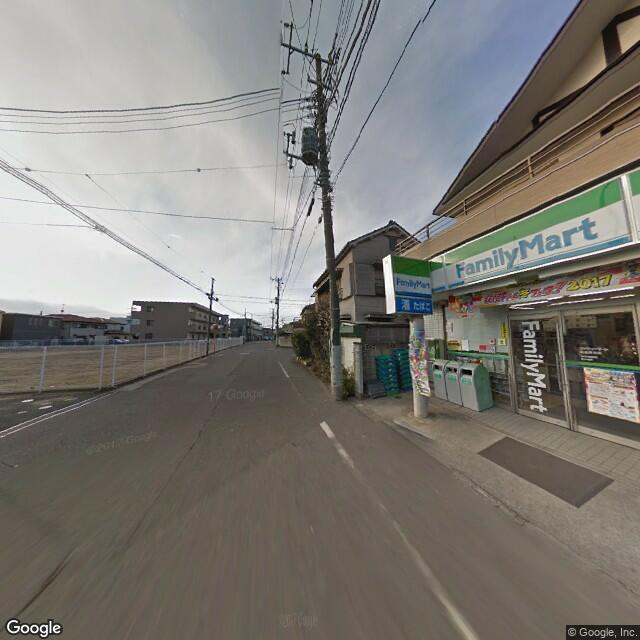family_mart: (430, 162, 638, 301), (516, 317, 552, 421), (387, 252, 433, 302)
